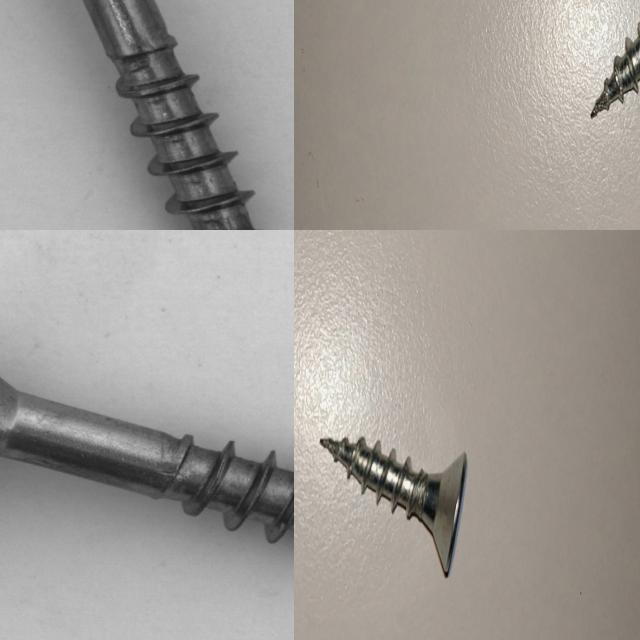Screw: (0, 287, 294, 616), (0, 0, 294, 230), (320, 437, 467, 576), (591, 22, 640, 117)
